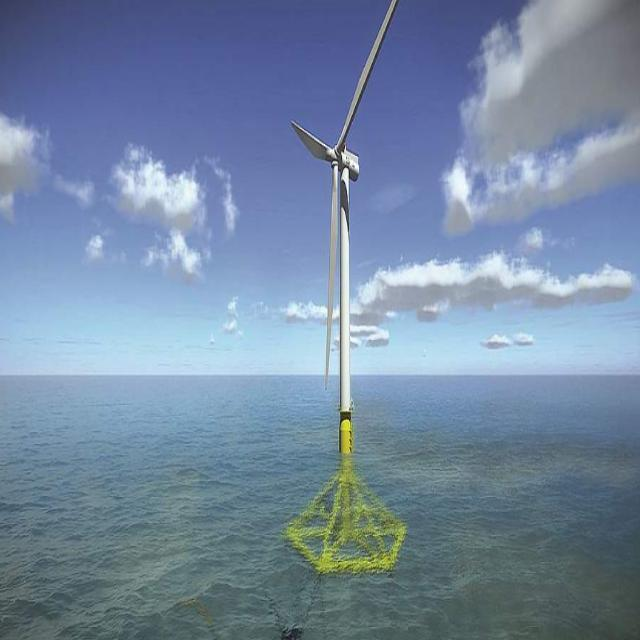wind-turbine: (291, 0, 398, 455)
